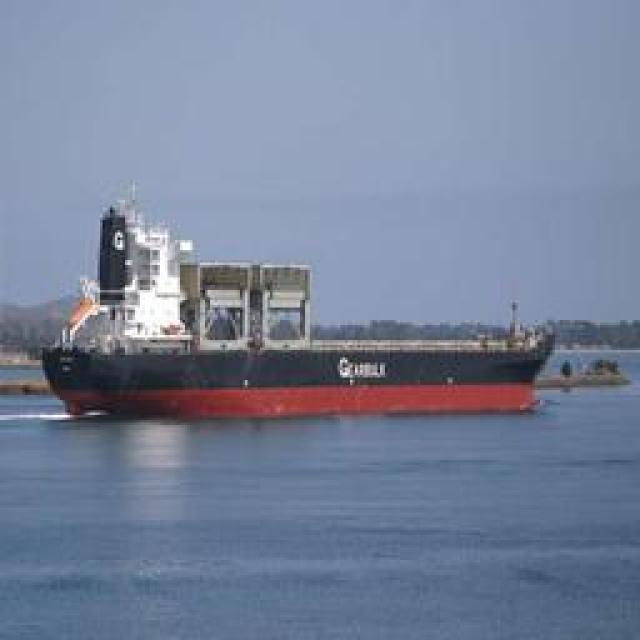ship2: (41, 181, 557, 424)
